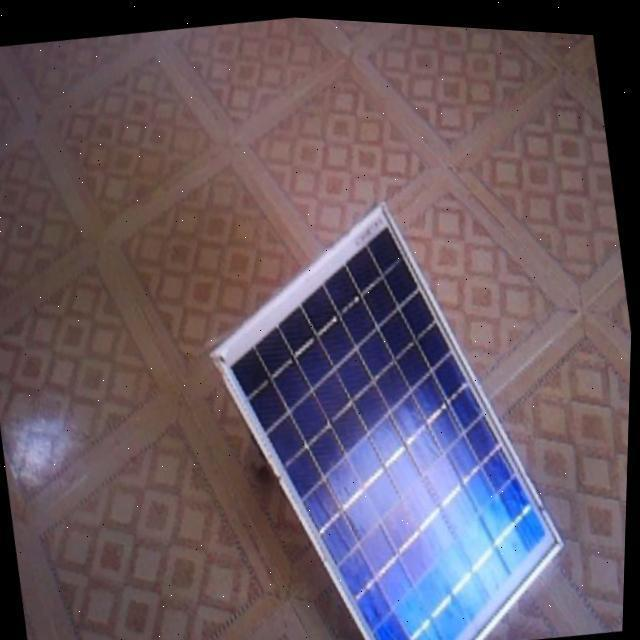Normal Solar Panel: (186, 169, 589, 640)
